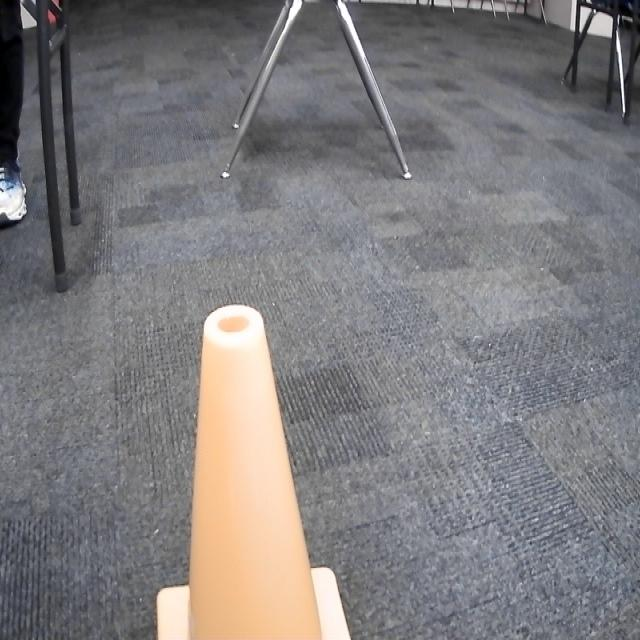cone: (157, 304, 355, 640)
